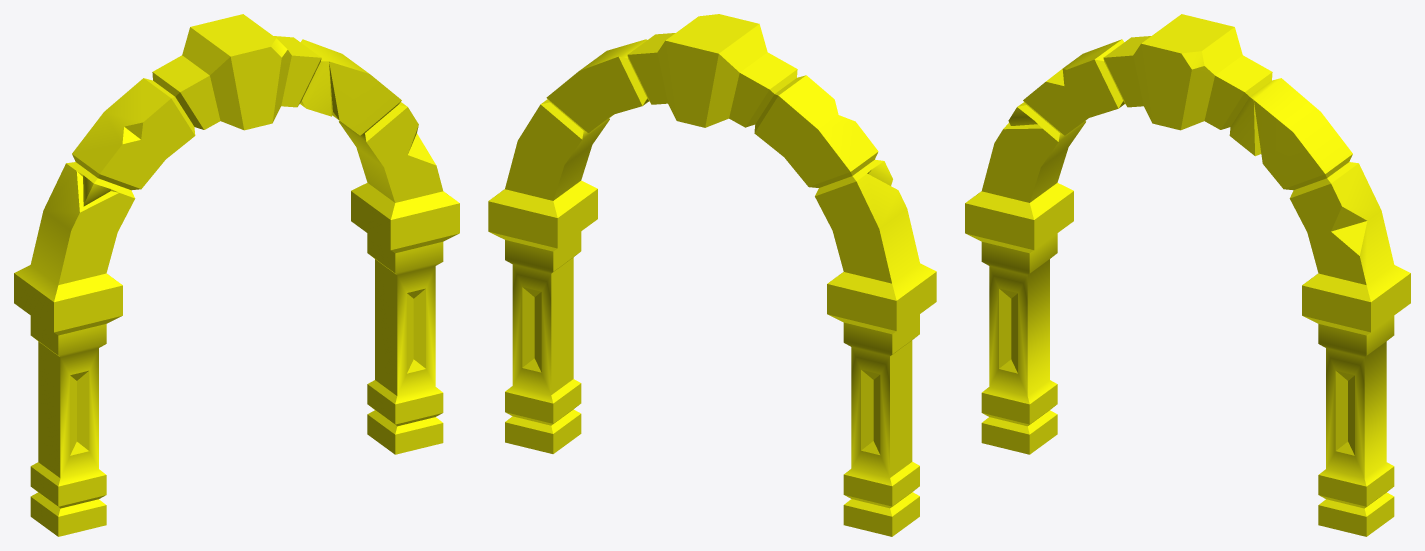
The model's file is kaykit-arch.glb.
3 renders of one model, left to right at view 1: azimuth 30°, elevation 25°; view 2: azimuth 150°, elevation 25°; view 3: azimuth 330°, elevation 25°, orthographic.
Visible parts, largest first — view 1: arch; view 2: arch; view 3: arch.
Part boxes in pixels (bbox=[...]): arch: bbox=[14, 14, 459, 536]; arch: bbox=[488, 14, 936, 536]; arch: bbox=[965, 14, 1410, 536].
Size of the model in its own units: 4.22 by 4.41 by 0.77.
